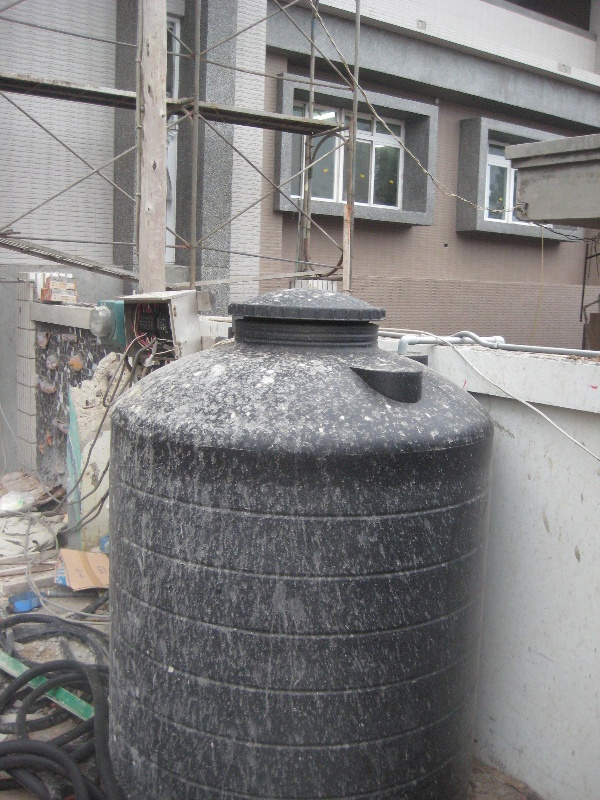bucket: (110, 284, 480, 800)
